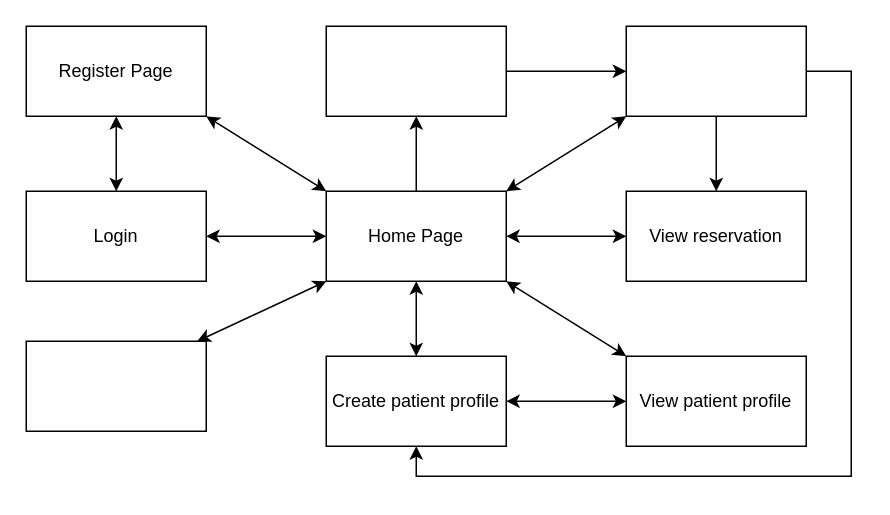
The diagram is 890 pixels wide and 515 high, and some of its shapes have lost their labels. The box of each missing label's shape, as (x1, y1, x2, y2) in pixels:
Booking service page: (625, 25, 806, 116)
Service List Page: (325, 25, 506, 116)
User information: (25, 340, 206, 431)
